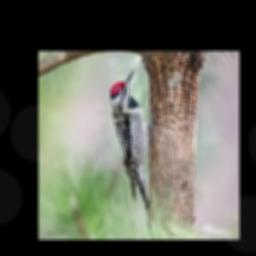Woodpecker: (111, 69, 151, 212)
